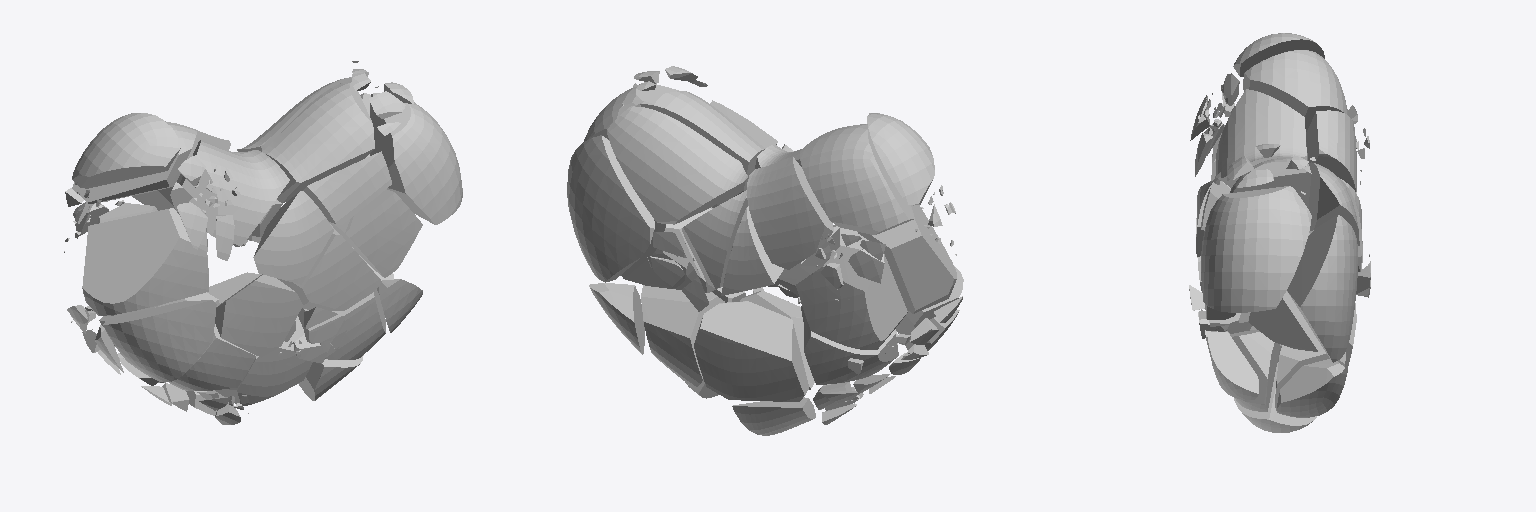
File: heartbroken2.obj
3 views of the same model, side by side, from view 1: azimuth 30°, elevation 25°; view 2: azimuth 150°, elevation 25°; view 3: azimuth 270°, elevation 25° (orthographic).
Parts seen in each view (by area): view 1: Cube.001_cell.032_Cube.001_cell.055, Cube.001_cell.030_Cube.001_cell.050, Cube.001_cell.019_Cube.001_cell.035, Cube.001_cell.018_Cube.001_cell.029, Cube.001_cell.037_Cube.001_cell.060, Cube.001_cell.044_Cube.001_cell.070, Cube.001_cell.043_Cube.001_cell.067, Cube.001_cell.013_Cube.001_cell.016, Cube.001_cell.028_Cube.001_cell.049, Cube.001_cell.034_Cube.001_cell.058, Cube.001_cell.003_Cube.001_cell.002, Cube.001_cell.027_Cube.001_cell.047 (+14 smaller); view 2: Cube.001_cell.017_Cube.001_cell.023, Cube.001_cell.005_Cube.001_cell.009, Cube.001_cell.039_Cube.001_cell.061, Cube.001_cell.042_Cube.001_cell.062, Cube.001_cell.014_Cube.001_cell.022, Cube.001_cell.004_Cube.001_cell.007, Cube.001_cell.032_Cube.001_cell.055, Cube.001_cell.026_Cube.001_cell.046, Cube.001_cell.044_Cube.001_cell.070, Cube.001_cell.030_Cube.001_cell.050, Cube.001_cell.021_Cube.001_cell.038, Cube.001_cell.031_Cube.001_cell.052 (+12 smaller); view 3: Cube.001_cell.019_Cube.001_cell.035, Cube.001_cell.039_Cube.001_cell.061, Cube.001_cell.037_Cube.001_cell.060, Cube.001_cell.042_Cube.001_cell.062, Cube.001_cell.010_Cube.001_cell.015, Cube.001_cell.004_Cube.001_cell.007, Cube.001_cell.006_Cube.001_cell.011, Cube.001_cell.024_Cube.001_cell.040, Cube.001_cell.017_Cube.001_cell.023, Cube.001_cell.000_Cube.001_cell.001, Cube.001_cell.044_Cube.001_cell.070, Cube.001_cell.030_Cube.001_cell.050 (+2 smaller).
Boxes of the visible parts, x1=… form: Cube.001_cell.032_Cube.001_cell.055: x1=82, y1=208, x2=208, y2=315; Cube.001_cell.030_Cube.001_cell.050: x1=262, y1=81, x2=374, y2=202; Cube.001_cell.019_Cube.001_cell.035: x1=370, y1=93, x2=462, y2=224; Cube.001_cell.018_Cube.001_cell.029: x1=103, y1=300, x2=216, y2=381; Cube.001_cell.037_Cube.001_cell.060: x1=180, y1=140, x2=289, y2=246; Cube.001_cell.044_Cube.001_cell.070: x1=72, y1=113, x2=180, y2=188; Cube.001_cell.043_Cube.001_cell.067: x1=215, y1=274, x2=302, y2=357; Cube.001_cell.013_Cube.001_cell.016: x1=253, y1=191, x2=333, y2=284; Cube.001_cell.028_Cube.001_cell.049: x1=328, y1=189, x2=422, y2=277; Cube.001_cell.034_Cube.001_cell.058: x1=277, y1=230, x2=381, y2=310; Cube.001_cell.003_Cube.001_cell.002: x1=303, y1=151, x2=391, y2=224; Cube.001_cell.027_Cube.001_cell.047: x1=215, y1=316, x2=312, y2=405; Cube.001_cell.017_Cube.001_cell.023: x1=607, y1=106, x2=747, y2=224; Cube.001_cell.005_Cube.001_cell.009: x1=694, y1=301, x2=808, y2=401; Cube.001_cell.039_Cube.001_cell.061: x1=567, y1=135, x2=654, y2=282; Cube.001_cell.042_Cube.001_cell.062: x1=800, y1=124, x2=914, y2=234; Cube.001_cell.014_Cube.001_cell.022: x1=796, y1=228, x2=907, y2=349; Cube.001_cell.004_Cube.001_cell.007: x1=747, y1=156, x2=833, y2=269; Cube.001_cell.032_Cube.001_cell.055: x1=858, y1=205, x2=956, y2=313; Cube.001_cell.026_Cube.001_cell.046: x1=641, y1=285, x2=724, y2=387; Cube.001_cell.044_Cube.001_cell.070: x1=867, y1=113, x2=934, y2=205; Cube.001_cell.030_Cube.001_cell.050: x1=640, y1=91, x2=765, y2=205; Cube.001_cell.021_Cube.001_cell.038: x1=682, y1=190, x2=747, y2=288; Cube.001_cell.031_Cube.001_cell.052: x1=804, y1=316, x2=898, y2=384; Cube.001_cell.019_Cube.001_cell.035: x1=1201, y1=186, x2=1311, y2=312; Cube.001_cell.039_Cube.001_cell.061: x1=1287, y1=215, x2=1357, y2=362; Cube.001_cell.037_Cube.001_cell.060: x1=1215, y1=89, x2=1306, y2=187; Cube.001_cell.042_Cube.001_cell.062: x1=1243, y1=50, x2=1347, y2=131; Cube.001_cell.010_Cube.001_cell.015: x1=1277, y1=359, x2=1347, y2=416; Cube.001_cell.004_Cube.001_cell.007: x1=1306, y1=110, x2=1356, y2=191; Cube.001_cell.006_Cube.001_cell.011: x1=1207, y1=331, x2=1258, y2=399; Cube.001_cell.024_Cube.001_cell.040: x1=1249, y1=291, x2=1323, y2=351; Cube.001_cell.017_Cube.001_cell.023: x1=1308, y1=162, x2=1359, y2=245; Cube.001_cell.000_Cube.001_cell.001: x1=1230, y1=329, x2=1279, y2=411; Cube.001_cell.044_Cube.001_cell.070: x1=1233, y1=33, x2=1324, y2=76; Cube.001_cell.030_Cube.001_cell.050: x1=1230, y1=158, x2=1311, y2=207.
Size of the model in its own units: 3.44 by 2.85 by 1.43.